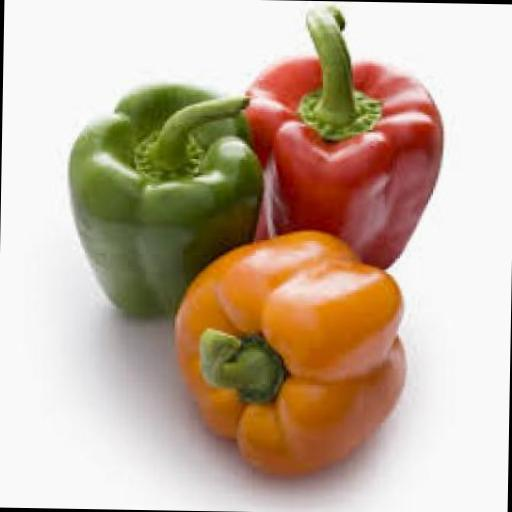biodegradable: (167, 220, 408, 478), (237, 0, 446, 269), (66, 80, 262, 322)
